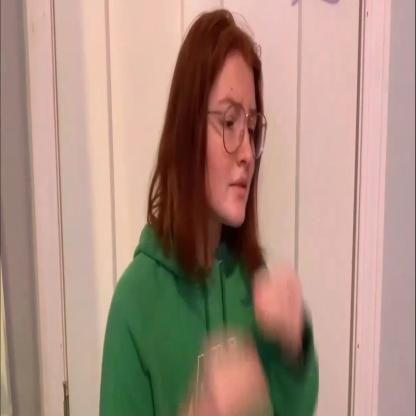Fix: (186, 240, 308, 416)
